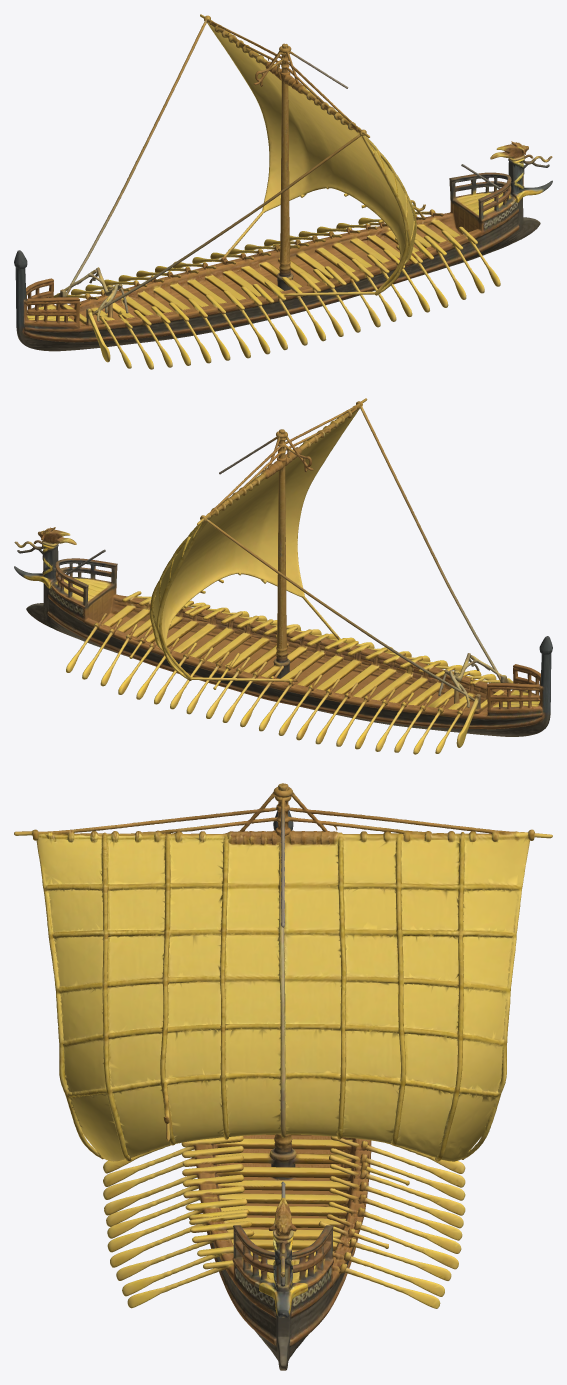
Rendered from Mycenean_Late_Achaean_Galley.min.glb.
3 renders of one model, top to bottom at view 1: azimuth 30°, elevation 25°; view 2: azimuth 150°, elevation 25°; view 3: azimuth 270°, elevation 25°, orthographic. The views are drawn at different scales.
Visible parts, largest first — view 1: tripo_node_2be0baaf-e030-4b5f-9c6a-0f8eaf58a5c2; view 2: tripo_node_2be0baaf-e030-4b5f-9c6a-0f8eaf58a5c2; view 3: tripo_node_2be0baaf-e030-4b5f-9c6a-0f8eaf58a5c2.
Part boxes in pixels (x1,y1,x2,y2): tripo_node_2be0baaf-e030-4b5f-9c6a-0f8eaf58a5c2: (14, 14, 552, 369); tripo_node_2be0baaf-e030-4b5f-9c6a-0f8eaf58a5c2: (14, 398, 552, 754); tripo_node_2be0baaf-e030-4b5f-9c6a-0f8eaf58a5c2: (14, 783, 552, 1370).
Bounding box in the file's own units: 0.9817 × 0.4555 × 0.5346.
Materials: 1 (1 with a texture image).
